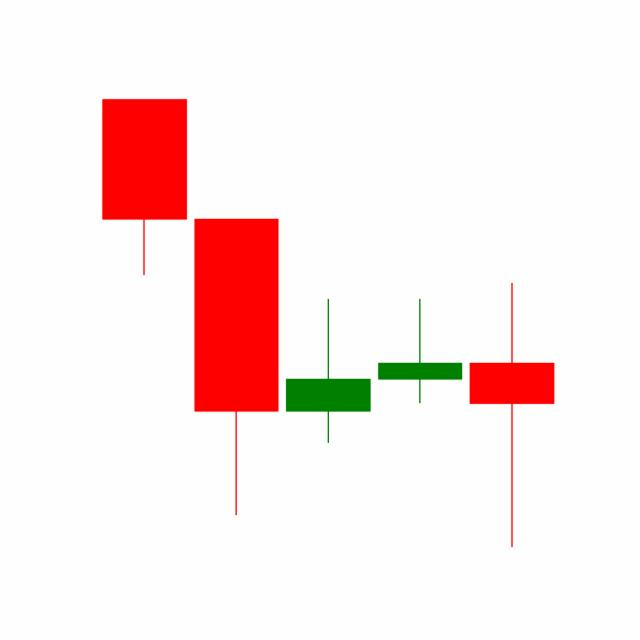Spinning Top: (464, 279, 558, 550)
